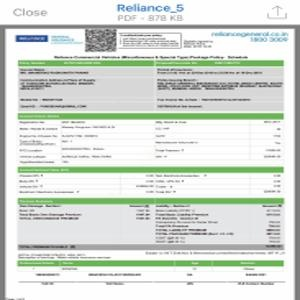image: (15, 32, 51, 43)
table: (18, 60, 285, 113), (16, 114, 283, 165), (19, 197, 285, 248), (17, 165, 286, 197), (18, 259, 285, 286)
text: (207, 28, 289, 43)
